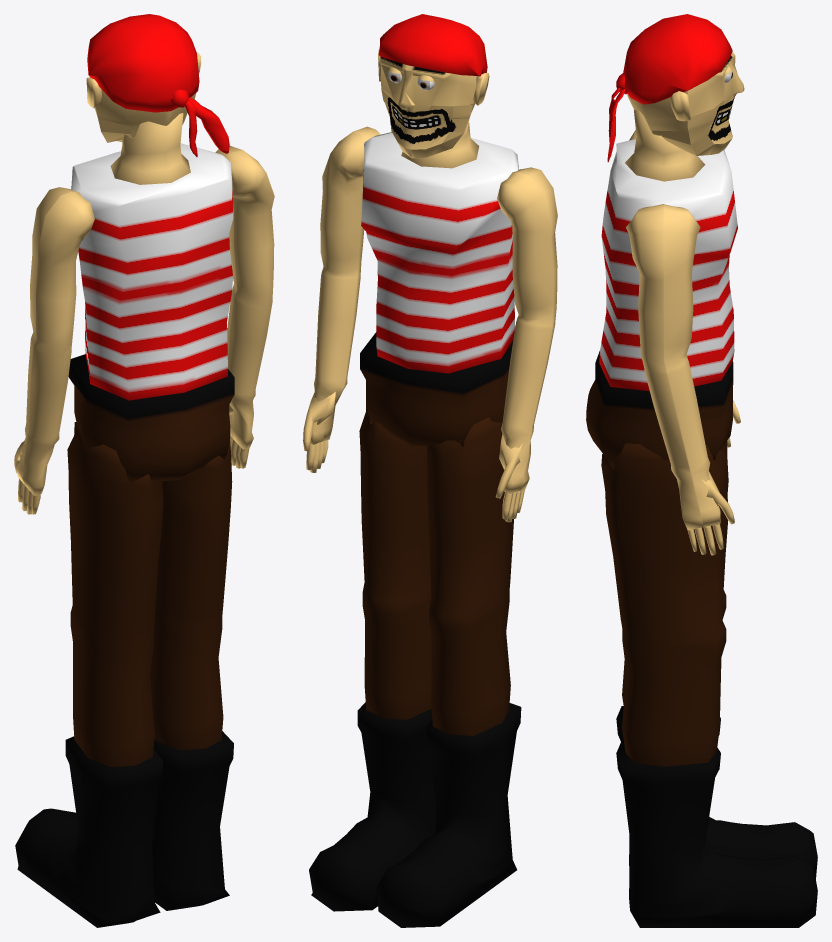
File: pirate.fbx
The picture shows the model from 3 angles, left to right: view 1: azimuth 30°, elevation 25°; view 2: azimuth 150°, elevation 25°; view 3: azimuth 270°, elevation 25°; orthographic projection. The views are drawn at different scales.
Parts seen in each view (by area): view 1: pirate_body, pirate_leftleg, pirate_rightleg, pirate_leftboot, pirate_leftarm, pirate_groin, pirate_rightboot, pirate_rightarm, pirate_bandana, pirate_neck, pirate_head; view 2: pirate_body, pirate_leftleg, pirate_rightleg, pirate_leftboot, pirate_rightboot, pirate_leftarm, pirate_rightarm, pirate_groin, pirate_head, pirate_bandana, pirate_neck, pirate_Rthumb (+1 smaller); view 3: pirate_rightleg, pirate_rightboot, pirate_body, pirate_rightarm, pirate_bandana, pirate_groin, pirate_head, pirate_leftboot, pirate_neck, pirate_Rthumb, pirate_rightear.
Part boxes in pixels (x1=…): pirate_body: x1=71, y1=143, x2=233, y2=400; pirate_leftleg: x1=67, y1=421, x2=163, y2=767; pirate_rightleg: x1=150, y1=439, x2=232, y2=750; pirate_leftboot: x1=15, y1=736, x2=162, y2=927; pirate_leftarm: x1=16, y1=187, x2=94, y2=495; pirate_groin: x1=68, y1=354, x2=234, y2=483; pirate_rightboot: x1=152, y1=731, x2=233, y2=910; pirate_rightarm: x1=215, y1=145, x2=274, y2=448; pirate_bandana: x1=87, y1=14, x2=229, y2=156; pirate_neck: x1=110, y1=113, x2=190, y2=184; pirate_head: x1=89, y1=77, x2=195, y2=142; pirate_body: x1=361, y1=132, x2=518, y2=373; pirate_leftleg: x1=427, y1=417, x2=513, y2=736; pirate_rightleg: x1=359, y1=406, x2=431, y2=719; pirate_leftboot: x1=376, y1=703, x2=521, y2=927; pirate_rightboot: x1=309, y1=702, x2=435, y2=911; pirate_leftarm: x1=497, y1=167, x2=557, y2=493; pirate_rightarm: x1=310, y1=126, x2=380, y2=444; pirate_groin: x1=360, y1=332, x2=513, y2=446; pirate_head: x1=380, y1=56, x2=477, y2=158; pirate_bandana: x1=378, y1=14, x2=487, y2=76; pirate_neck: x1=401, y1=120, x2=479, y2=168; pirate_Rthumb: x1=303, y1=391, x2=335, y2=451; pirate_rightleg: x1=601, y1=443, x2=728, y2=766; pirate_rightboot: x1=616, y1=740, x2=817, y2=927; pirate_body: x1=599, y1=139, x2=737, y2=391; pirate_rightarm: x1=626, y1=204, x2=720, y2=530; pirate_bandana: x1=607, y1=14, x2=732, y2=162; pirate_groin: x1=586, y1=351, x2=733, y2=469; pirate_head: x1=627, y1=51, x2=744, y2=155; pirate_leftboot: x1=616, y1=706, x2=817, y2=878; pirate_neck: x1=625, y1=109, x2=705, y2=181; pirate_Rthumb: x1=702, y1=471, x2=734, y2=524; pirate_rightear: x1=670, y1=91, x2=690, y2=121.
Bounding box in the file's own units: 4.49 × 15.94 × 3.82.
1 material, 1 textured.
